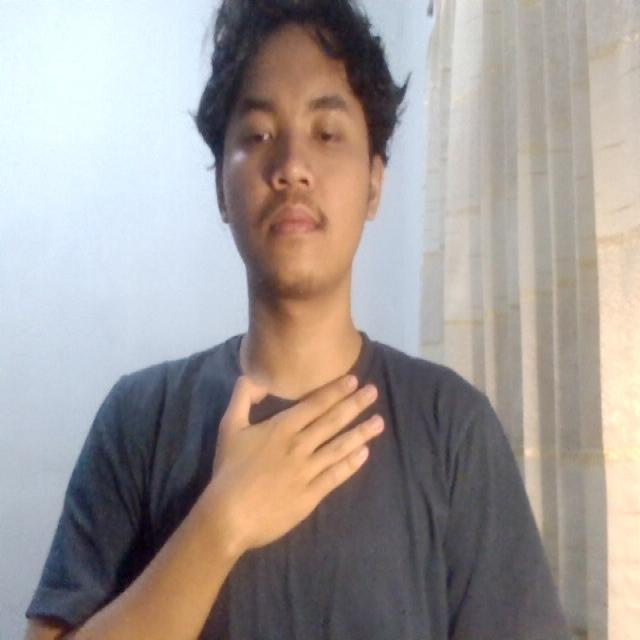Nama: (192, 358, 393, 554)
